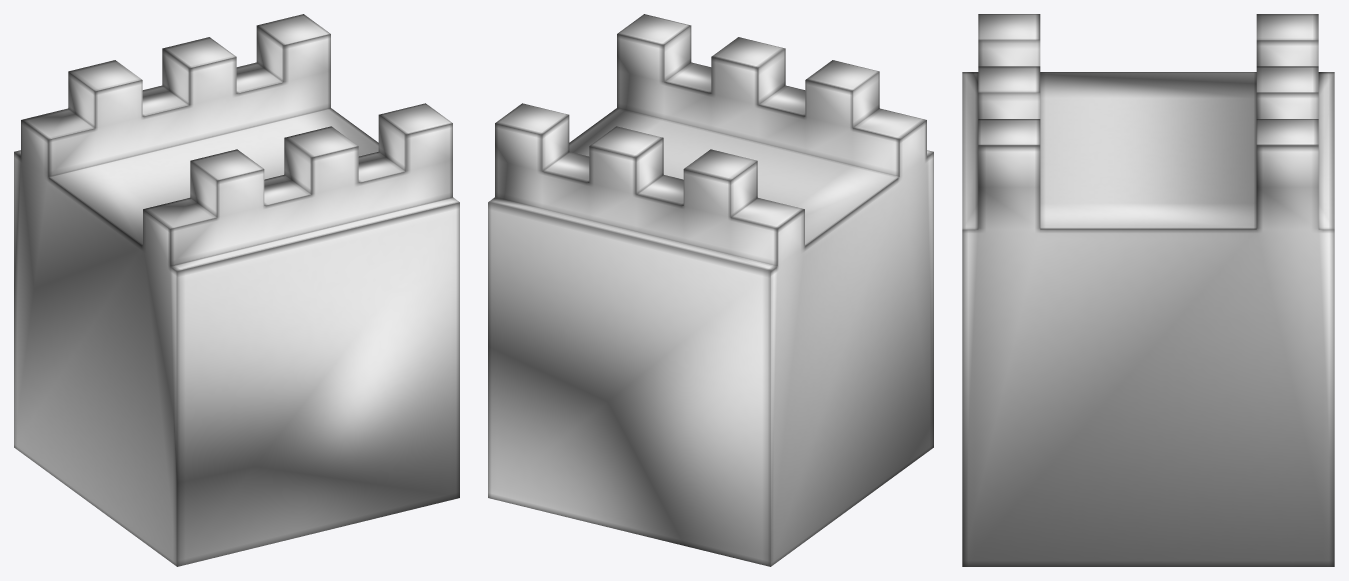
The model's file is Wall-01.fbx.
3 renders of one model, left to right at view 1: azimuth 30°, elevation 25°; view 2: azimuth 150°, elevation 25°; view 3: azimuth 270°, elevation 25°, orthographic. The views are drawn at different scales.
Parts seen in each view (by area): view 1: Wall-01; view 2: Wall-01; view 3: Wall-01.
Part boxes in pixels (<box>): Wall-01: <box>14,14,459,566</box>; Wall-01: <box>488,14,933,566</box>; Wall-01: <box>962,14,1334,566</box>.
Bounding box in the file's own units: 1 × 1.25 × 1.
